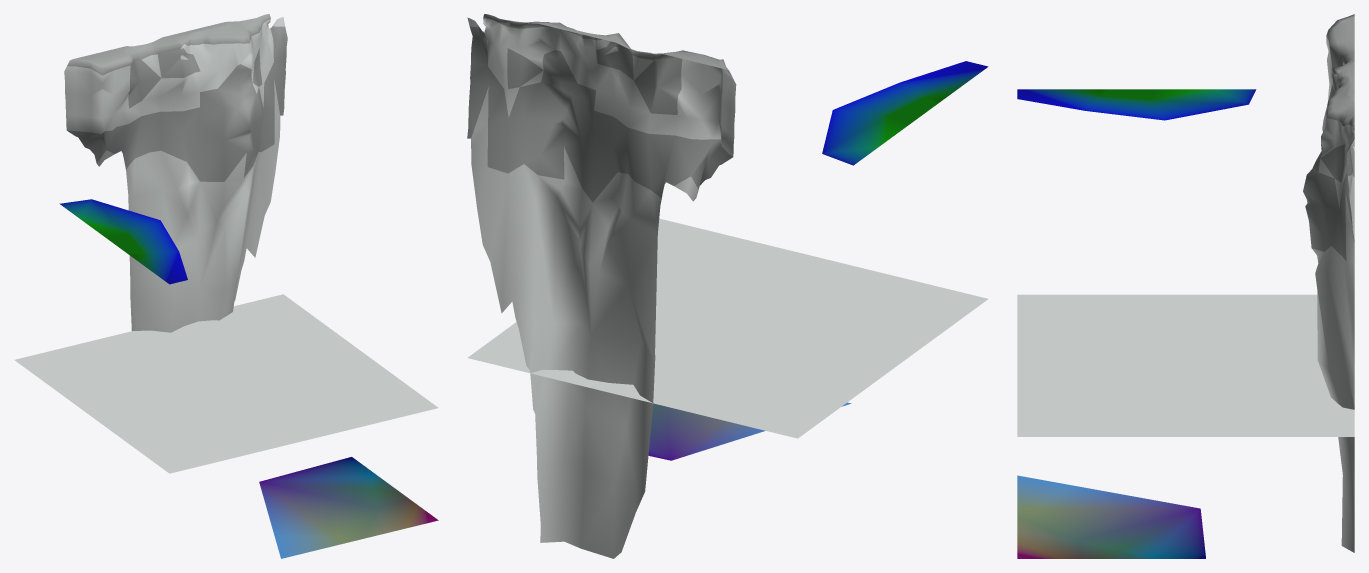
3 views of the same model, side by side, from view 1: azimuth 30°, elevation 25°; view 2: azimuth 150°, elevation 25°; view 3: azimuth 270°, elevation 25° (orthographic). The views are drawn at different scales.
Parts seen in each view (by area): view 1: G:\FFXIV-MapTools\exports\w1f5\bg\ffxiv\wil_w1\fld\w1f5\bgpl (×7); view 2: G:\FFXIV-MapTools\exports\w1f5\bg\ffxiv\wil_w1\fld\w1f5\bgpl (×7); view 3: G:\FFXIV-MapTools\exports\w1f5\bg\ffxiv\wil_w1\fld\w1f5\bgpl (×6).
Boxes of the visible parts, left/top/right/bottom form: G:\FFXIV-MapTools\exports\w1f5\bg\ffxiv\wil_w1\fld\w1f5\bgpl (×7): left=14, top=14, right=438, bottom=558; G:\FFXIV-MapTools\exports\w1f5\bg\ffxiv\wil_w1\fld\w1f5\bgpl (×7): left=467, top=14, right=988, bottom=558; G:\FFXIV-MapTools\exports\w1f5\bg\ffxiv\wil_w1\fld\w1f5\bgpl (×6): left=1017, top=14, right=1354, bottom=558.
Bounding box in the file's own units: 128 × 192 × 128.
